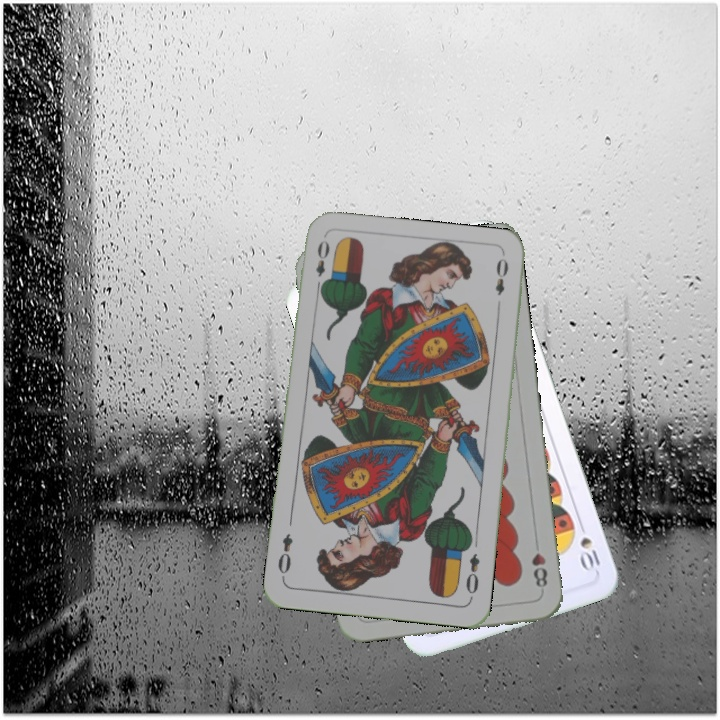EO: (311, 236, 332, 294), (461, 549, 483, 602)
H8: (528, 535, 550, 590)
S10: (574, 517, 603, 575)
